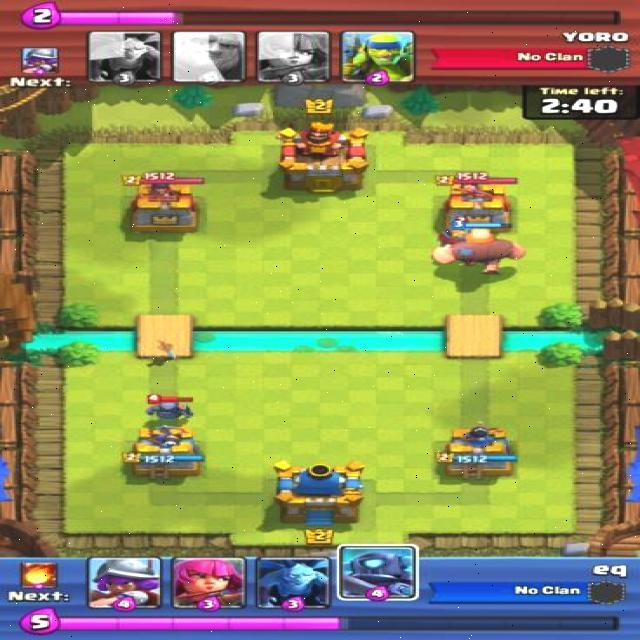EKingTower: (276, 122, 368, 196)
EKnight: (439, 226, 466, 246)
EMiniPeka: (143, 393, 199, 426)
EnemyPrincessTower: (119, 174, 202, 232), (441, 179, 517, 232)
OGiant: (446, 226, 516, 282)
OwnKingTower: (272, 458, 364, 527)
OwnPrincessTower: (440, 420, 516, 482), (131, 423, 201, 482)
